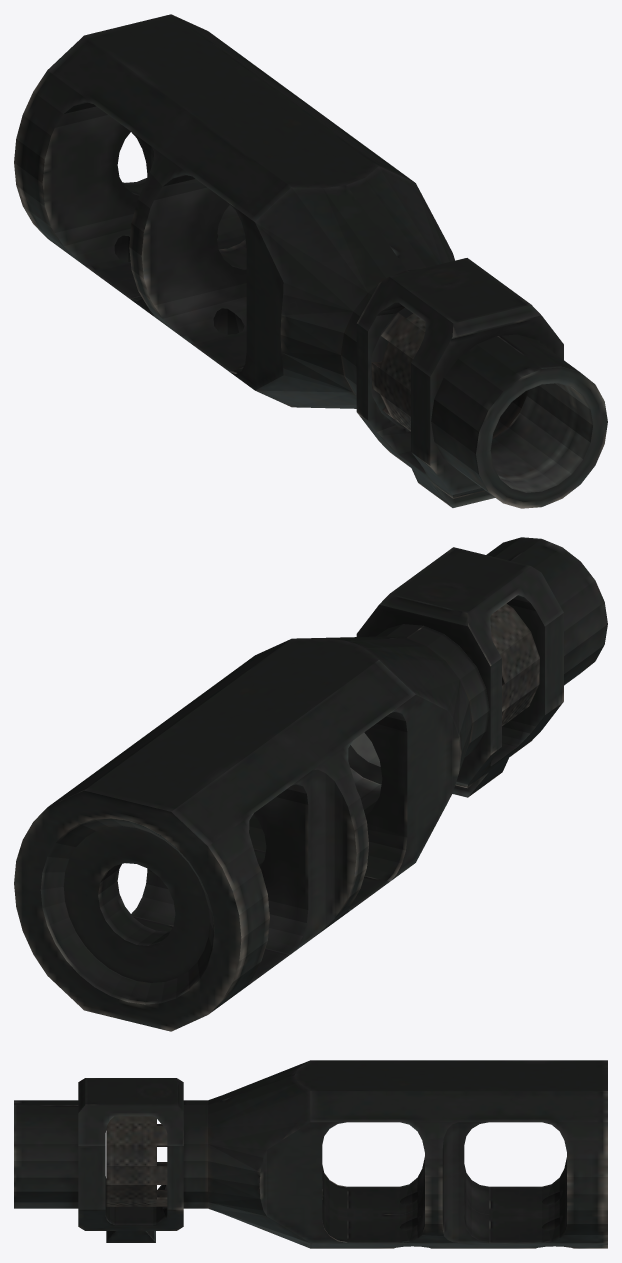
3 renders of one model, top to bottom at view 1: azimuth 30°, elevation 25°; view 2: azimuth 150°, elevation 25°; view 3: azimuth 270°, elevation 25°, orthographic. The views are drawn at different scales.
Visible parts, largest first — view 1: TW_5addbb825acfc408fb139400_PZ_Import; view 2: TW_5addbb825acfc408fb139400_PZ_Import; view 3: TW_5addbb825acfc408fb139400_PZ_Import.
Part boxes in pixels (x1=…): TW_5addbb825acfc408fb139400_PZ_Import: x1=14, y1=14, x2=607, y2=508; TW_5addbb825acfc408fb139400_PZ_Import: x1=14, y1=537, x2=607, y2=1031; TW_5addbb825acfc408fb139400_PZ_Import: x1=14, y1=1060, x2=607, y2=1248.
Bounding box in the file's own units: 0.0208 × 0.0657 × 0.0194.
1 material, 1 textured.
